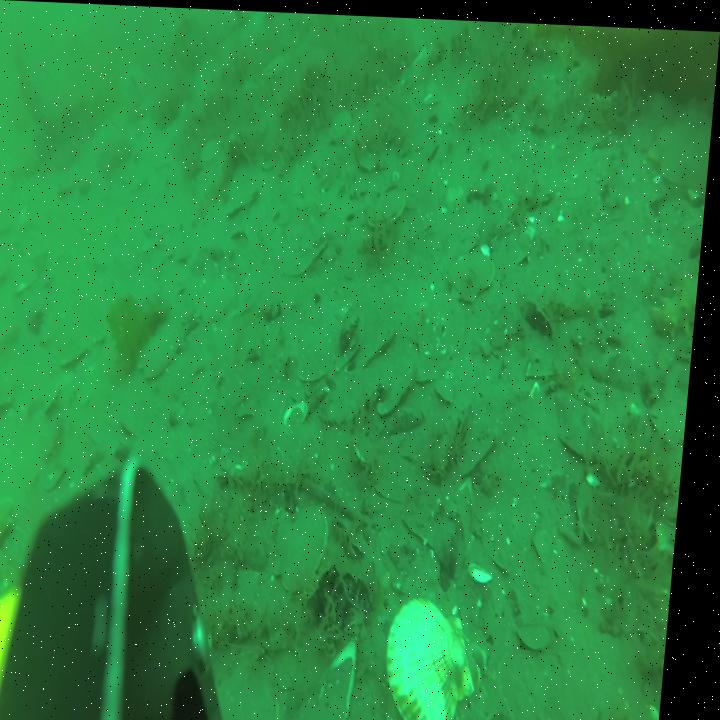scallop: (393, 587, 494, 720), (275, 497, 339, 601), (645, 111, 714, 191), (419, 296, 477, 359), (450, 243, 503, 301), (377, 352, 424, 416), (357, 311, 403, 370), (301, 325, 346, 382), (145, 328, 192, 381), (523, 606, 567, 657), (365, 189, 412, 235), (203, 277, 246, 325), (0, 498, 25, 566), (330, 101, 355, 144), (438, 369, 462, 403), (419, 351, 441, 382), (201, 137, 224, 165)
